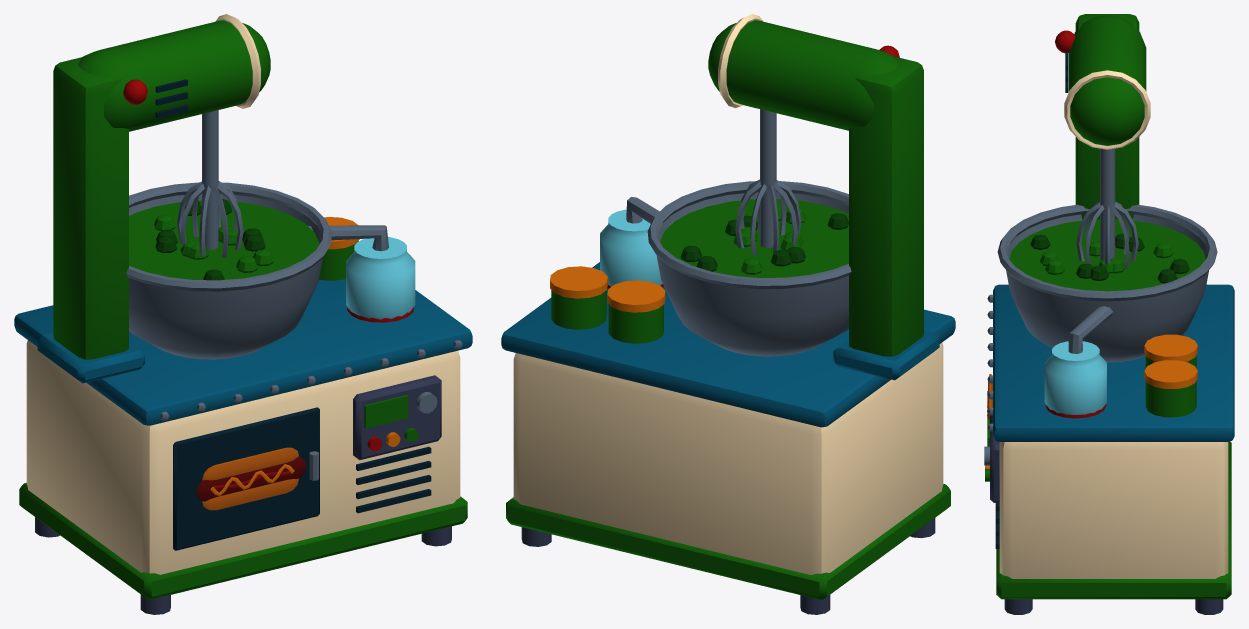
File: RelishMixer.obj
3 renders of one model, left to right at view 1: azimuth 30°, elevation 25°; view 2: azimuth 150°, elevation 25°; view 3: azimuth 270°, elevation 25°, orthographic. The views are drawn at different scales.
Parts seen in each view (by area): view 1: RelishMixer; view 2: RelishMixer; view 3: RelishMixer.
Boxes of the visible parts, left/top/right/bottom form: RelishMixer: left=14, top=14, right=472, bottom=614; RelishMixer: left=501, top=14, right=955, bottom=614; RelishMixer: left=984, top=14, right=1234, bottom=614.
Bounding box in the file's own units: 5.8 × 8.19 × 3.94.
